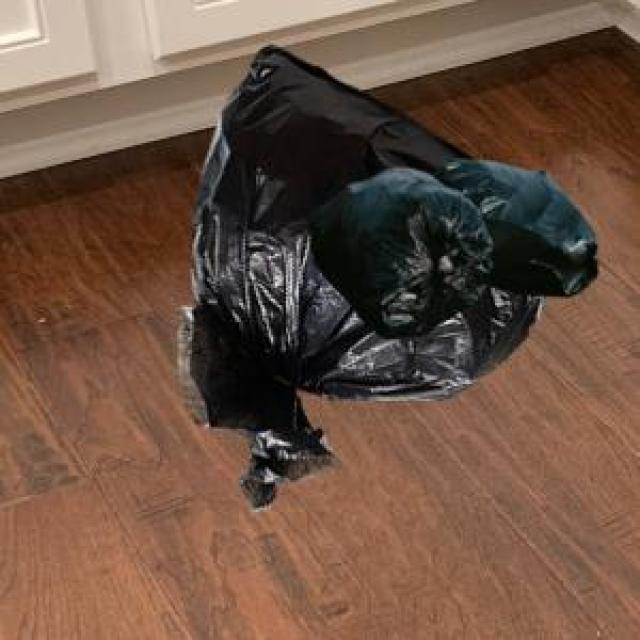waste: (186, 46, 598, 507)
